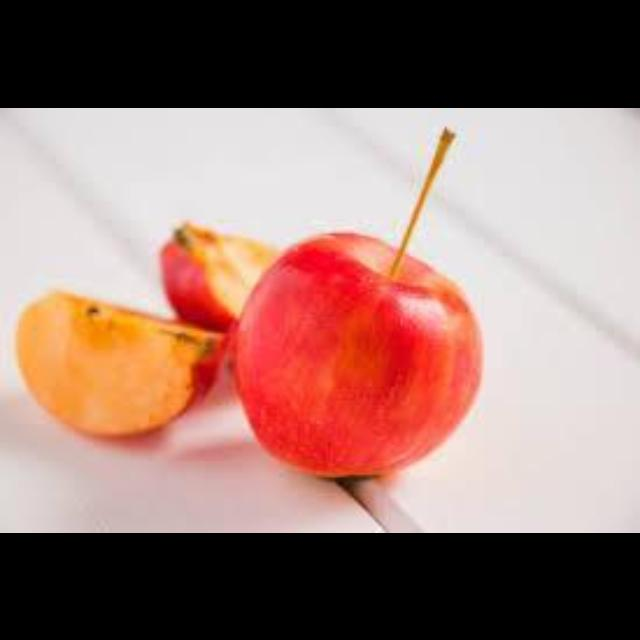apple: (235, 233, 479, 475)
